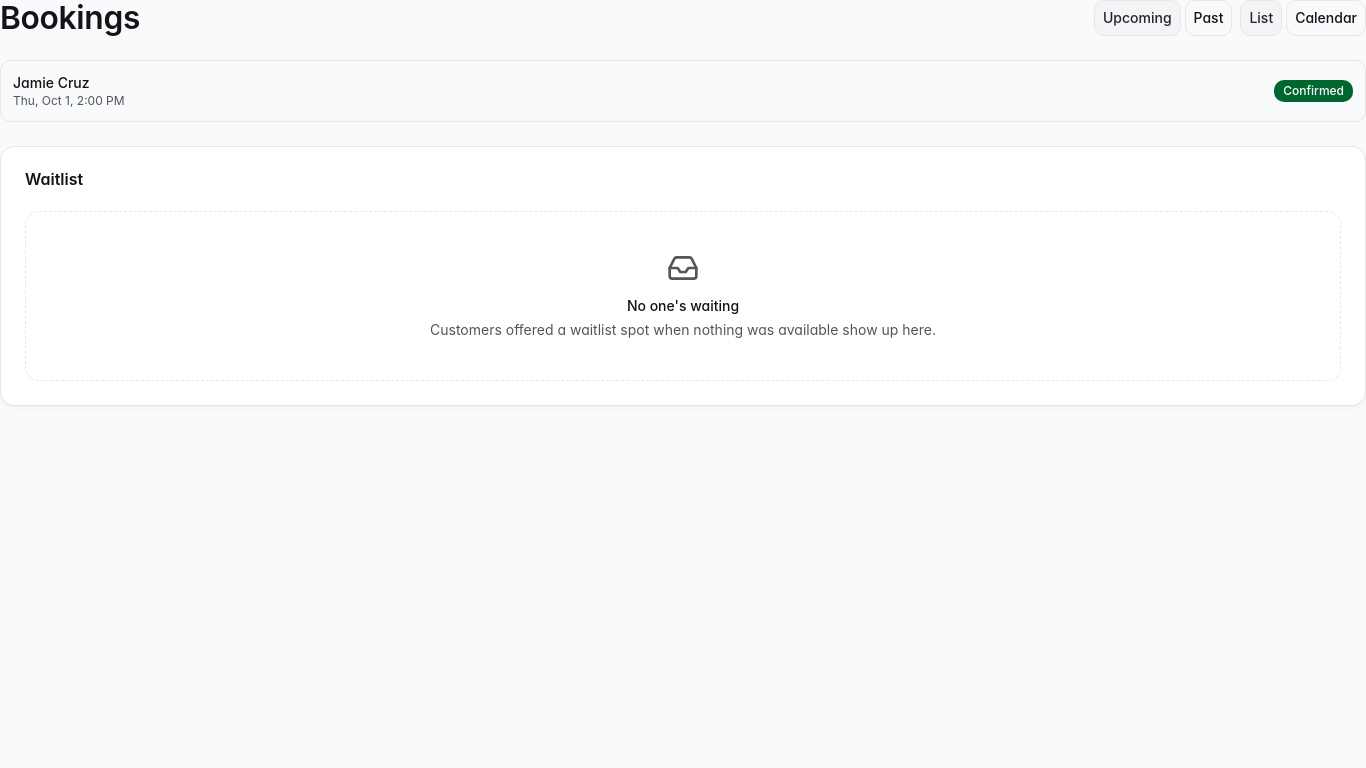
Test: BookingsPage reschedule (QA-1 F-07 / F-20) › offers Confirm only while scheduled; a confirmed booking can be rescheduled/cancelled but not re-confirmed
This screenshot has width=1366, height=768.
Click the text "Jamie Cruz": (51, 83) x1=13 y1=74 x2=90 y2=92
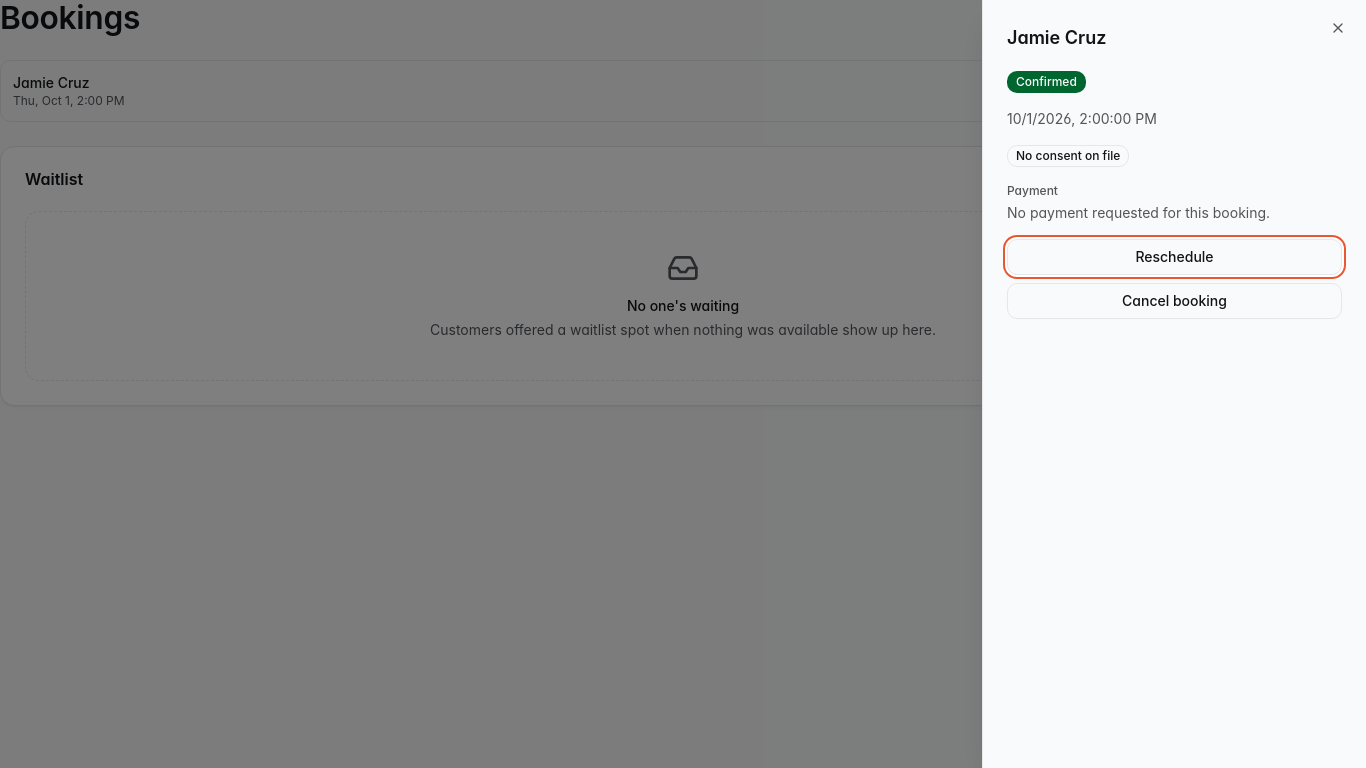
expect the button "Reschedule" is shown: met, box x1=1007 y1=239 x2=1342 y2=275
expect the button "Cancel booking" is shown: met, box x1=1007 y1=283 x2=1342 y2=319
